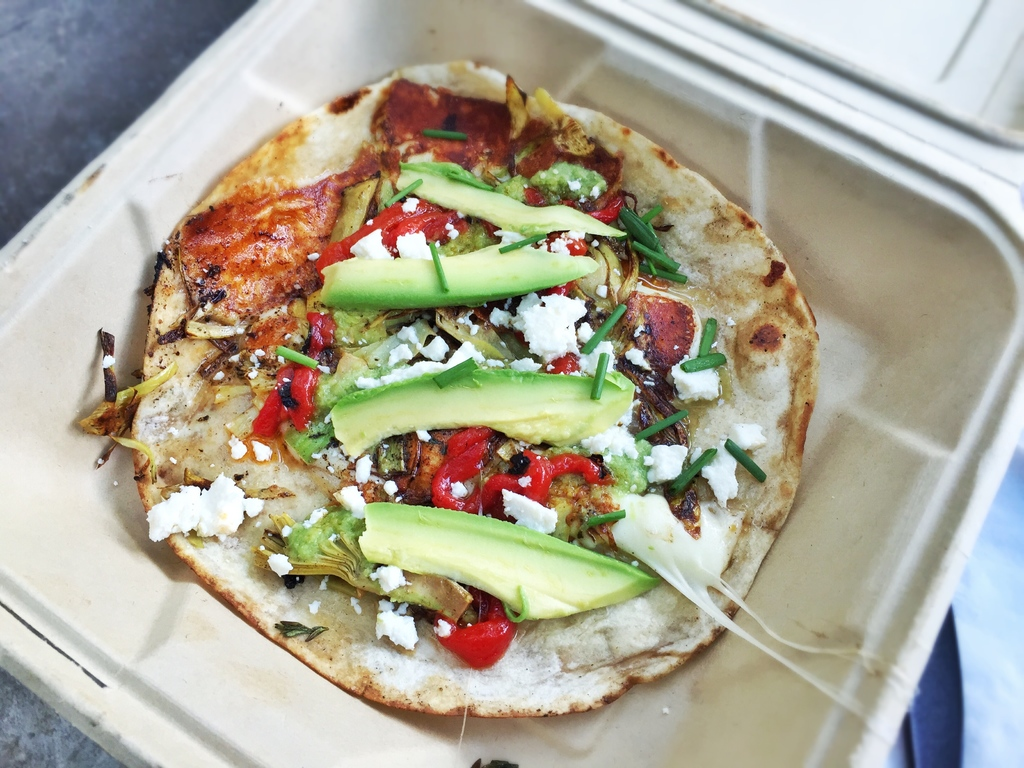taco: (132, 56, 818, 717)
